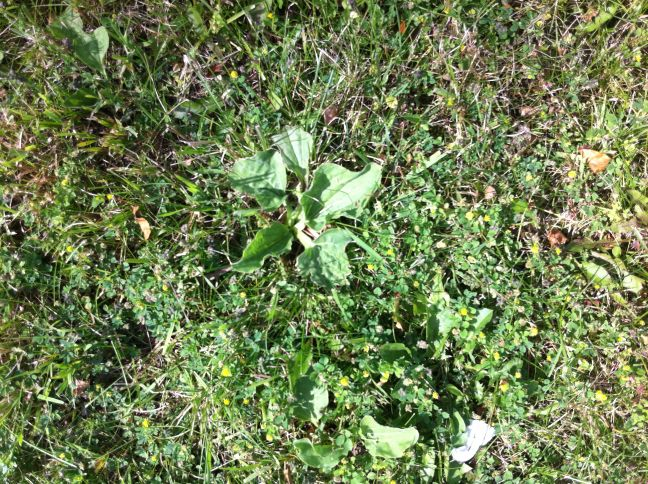weed1: (215, 122, 389, 290)
